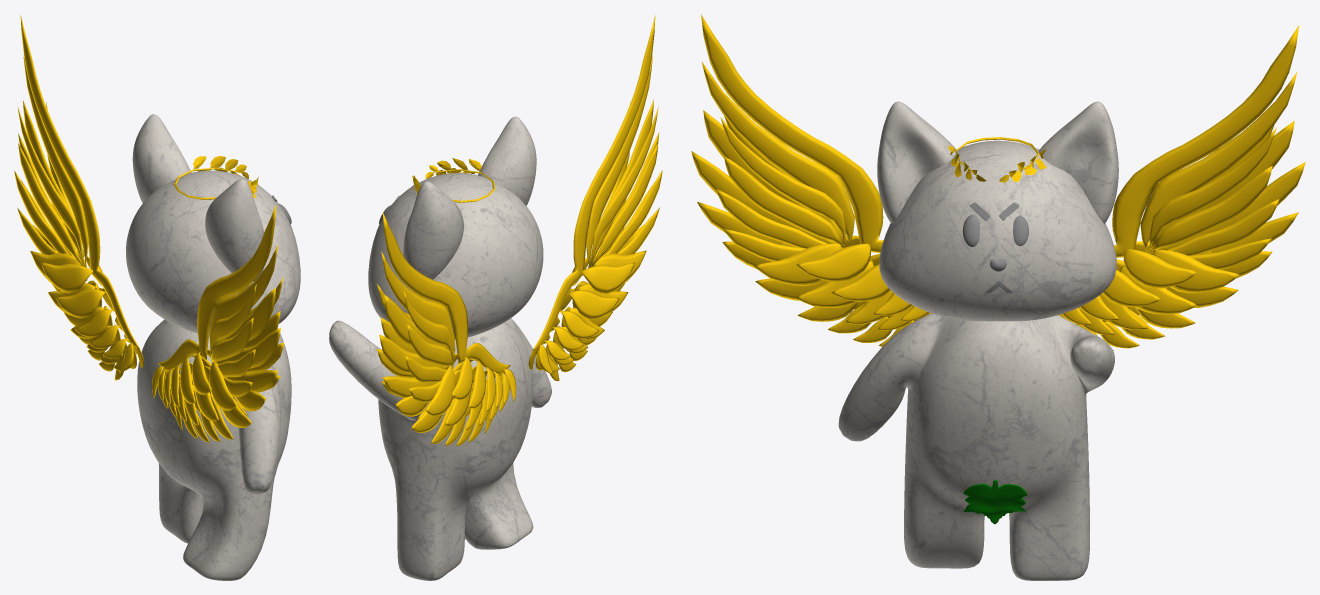
Rendered from escultura1.glb.
The picture shows the model from 3 angles, left to right: view 1: azimuth 30°, elevation 25°; view 2: azimuth 150°, elevation 25°; view 3: azimuth 270°, elevation 25°; orthographic projection. The views are drawn at different scales.
Parts seen in each view (by area): view 1: Ojos.003; view 2: Ojos.003; view 3: Ojos.003.
Part boxes in pixels (x1,y1,x2,y2): Ojos.003: (14, 15, 300, 580); Ojos.003: (329, 15, 662, 580); Ojos.003: (691, 14, 1305, 580).
Bounding box in the file's own units: 2.6 × 6.59 × 7.04.
Materials: 4 (1 with a texture image).
